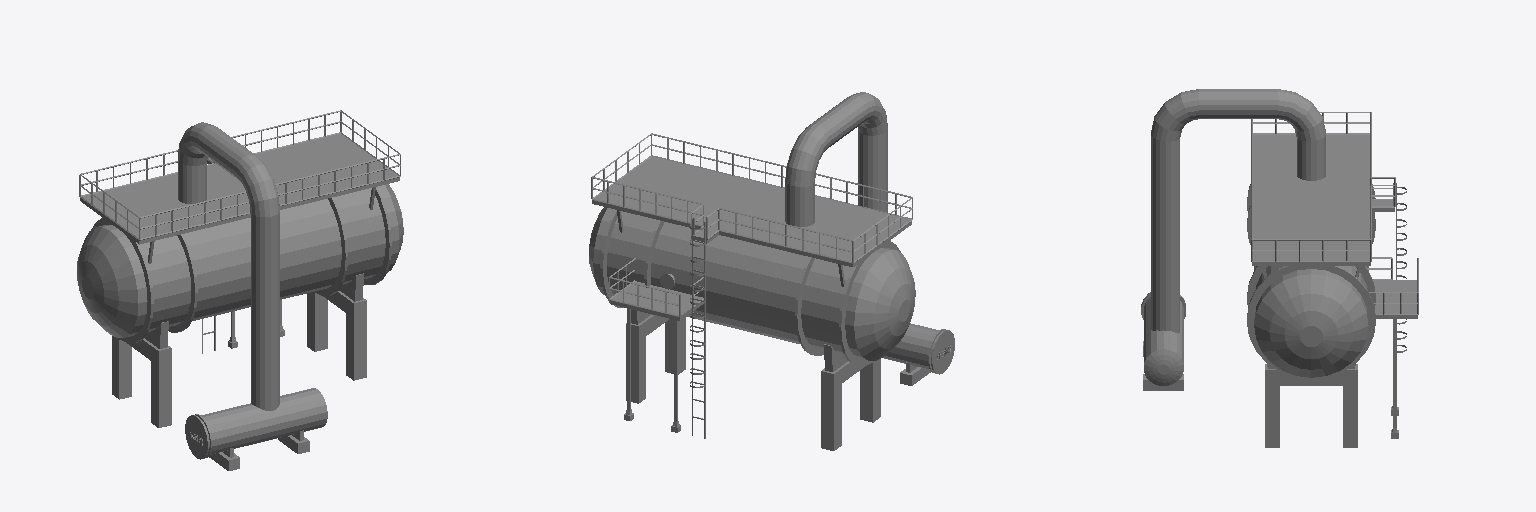
The model's file is 0499qitaguan.obj.
The picture shows the model from 3 angles: view 1: azimuth 30°, elevation 25°; view 2: azimuth 150°, elevation 25°; view 3: azimuth 270°, elevation 25°; orthographic projection.
Visible parts, largest first — view 1: EQUIP_V505, EQUIP_SFG, Object001; view 2: EQUIP_V505, Object001, EQUIP_SFG; view 3: EQUIP_V505, EQUIP_SFG, Object001.
Part boxes in pixels (x1,y1,x2,y2): EQUIP_V505: (77,122,403,427); EQUIP_SFG: (185,388,327,470); Object001: (79,110,400,240); EQUIP_V505: (589,92,915,450); Object001: (591,133,912,316); EQUIP_SFG: (883,323,954,385); EQUIP_V505: (1151,89,1417,447); EQUIP_SFG: (1141,292,1185,390); Object001: (1251,112,1418,314).
Bounding box in the file's own units: 11.68 × 10.41 × 9.21.